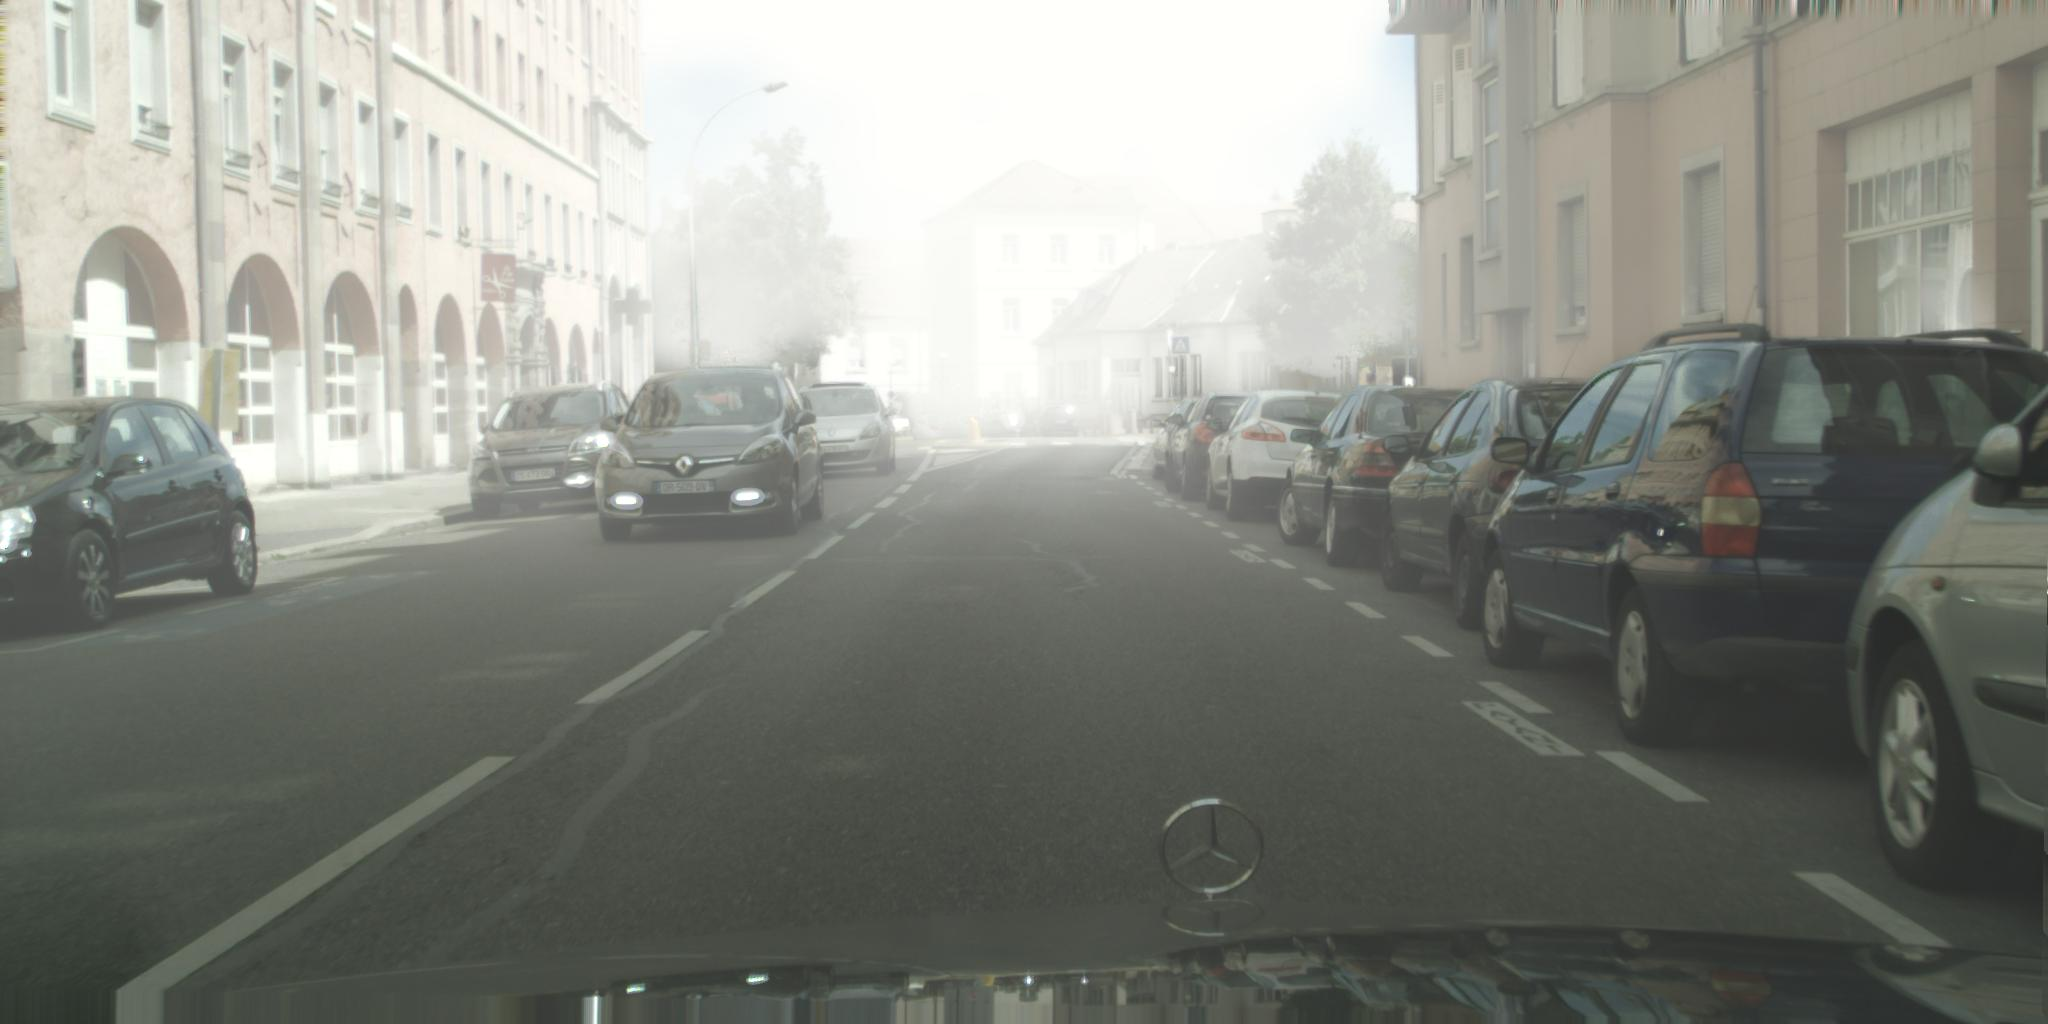car: (1479, 323, 2048, 748), (1846, 380, 2048, 891), (1381, 379, 1656, 633), (1, 398, 259, 635), (1277, 387, 1512, 568), (594, 370, 824, 543), (469, 380, 654, 520), (1207, 391, 1371, 522), (1166, 391, 1281, 504), (794, 381, 899, 477), (1149, 398, 1213, 494), (1038, 402, 1080, 439), (973, 411, 1031, 438), (914, 410, 951, 439), (944, 413, 981, 439)
